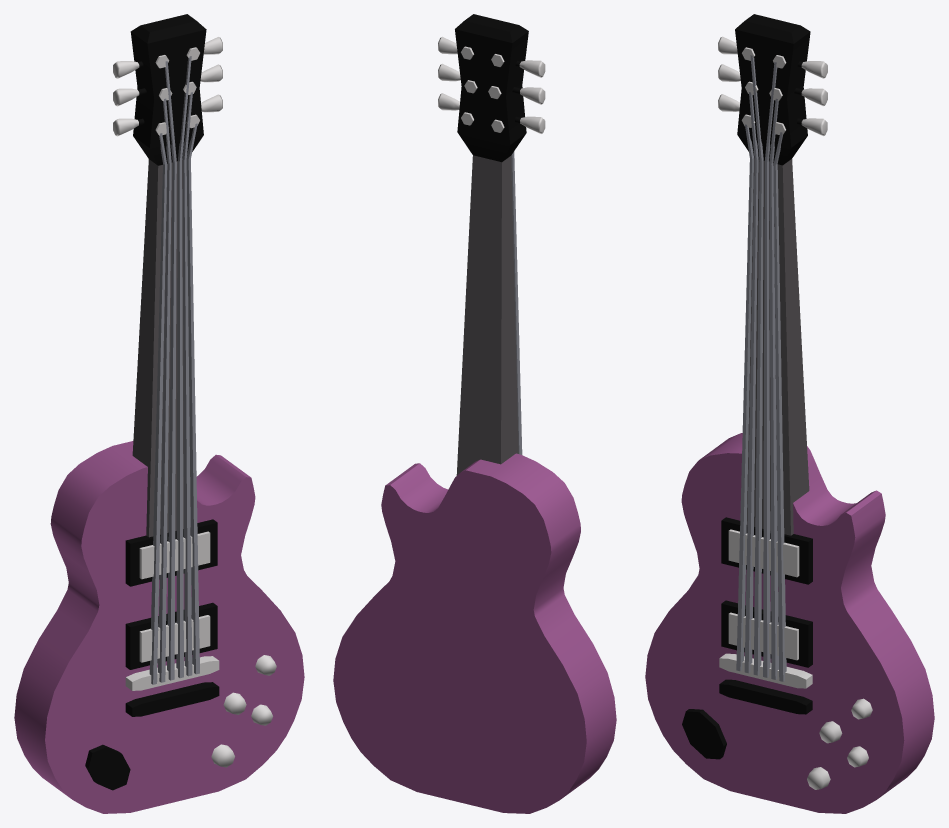
The model's file is Guitar.fbx.
3 views of the same model, side by side, from view 1: azimuth 30°, elevation 25°; view 2: azimuth 150°, elevation 25°; view 3: azimuth 330°, elevation 25° (orthographic). The views are drawn at different scales.
Parts seen in each view (by area): view 1: Guitar:Meshes292; view 2: Guitar:Meshes292; view 3: Guitar:Meshes292.
Part boxes in pixels (<box>): Guitar:Meshes292: <box>14,14,304,813</box>; Guitar:Meshes292: <box>333,14,616,813</box>; Guitar:Meshes292: <box>645,14,934,813</box>.
Bounding box in the file's own units: 2.74 × 7.84 × 0.7116.
